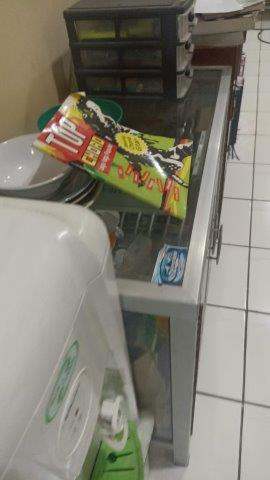kertas: (31, 92, 189, 222)
